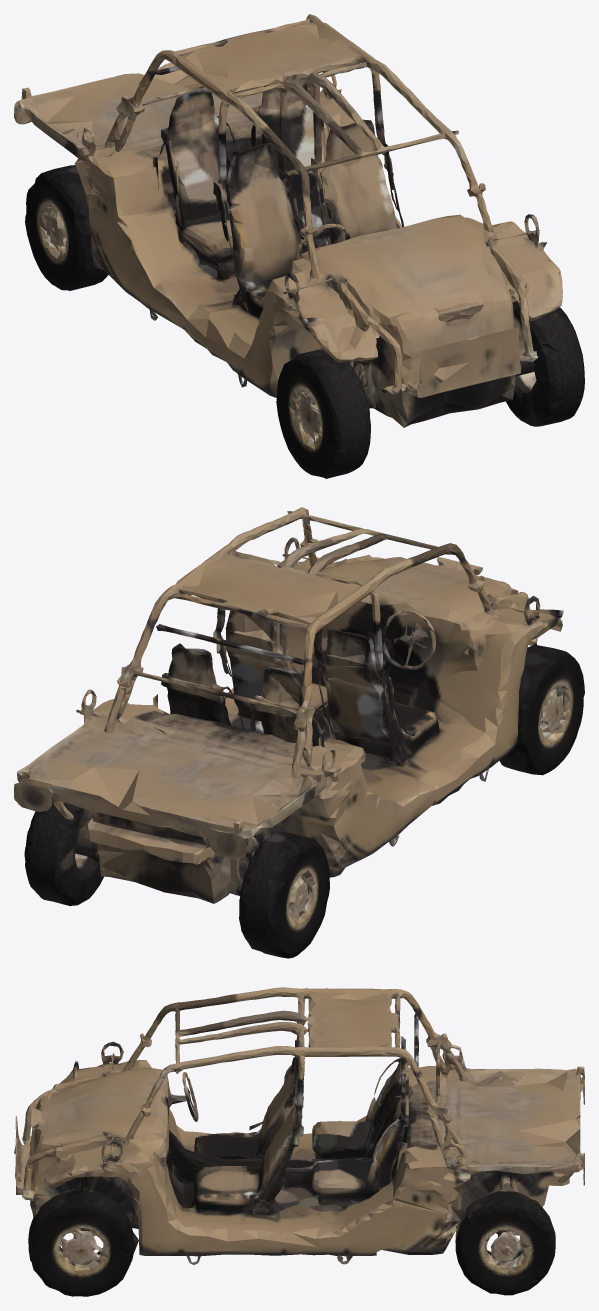
The model's file is Polaris_MRZR_Alpha_AI_Rodin.glb.
3 views of the same model, one above another, from view 1: azimuth 30°, elevation 25°; view 2: azimuth 150°, elevation 25°; view 3: azimuth 270°, elevation 25° (orthographic). The views are drawn at different scales.
Parts seen in each view (by area): view 1: model; view 2: model; view 3: model.
Part boxes in pixels (bbox=[...]): model: bbox=[14, 14, 584, 478]; model: bbox=[14, 507, 584, 958]; model: bbox=[14, 987, 584, 1296].
Size of the model in its own units: 0.836 by 0.8506 by 1.9.
1 material, 1 textured.
